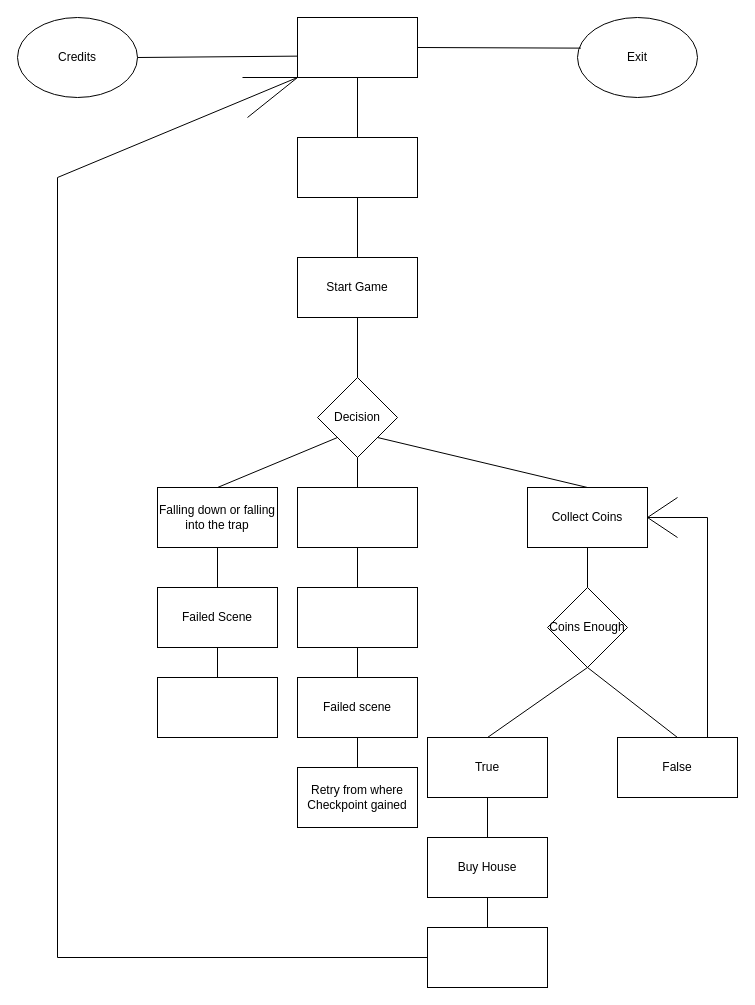
The diagram is 755 pixels wide and 1005 high, and some of its shapes have lost their labels. The centre of each missing label's shape, as x and y in pixels:
"Credit Scene" goes at (x=487, y=957).
"Get Checkpoint" goes at (x=357, y=517).
"Guide and controls" goes at (x=357, y=167).
"If Falling down or falling into the trap" goes at (x=357, y=617).
"MainMenu" goes at (x=357, y=47).
"Retry from beginning" goes at (x=217, y=707).
